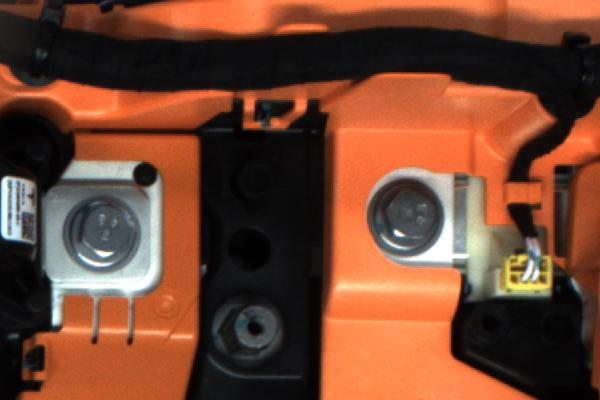nut_b: (355, 173, 447, 264), (58, 194, 147, 277)
